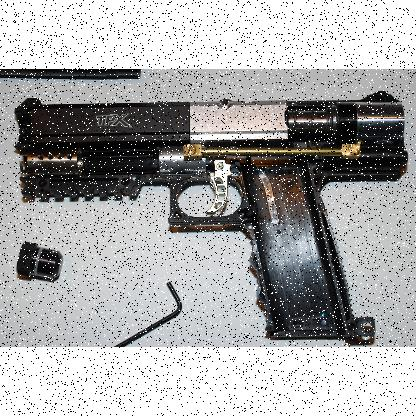gun: (14, 89, 408, 338)
